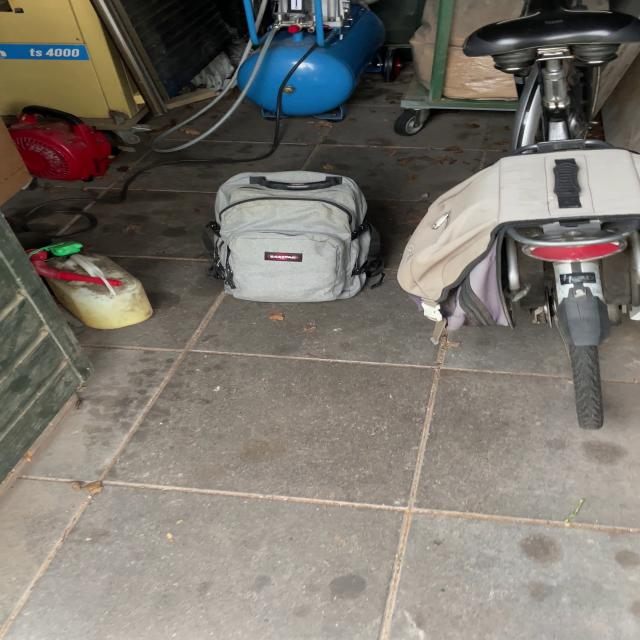backpack: (196, 164, 394, 307)
